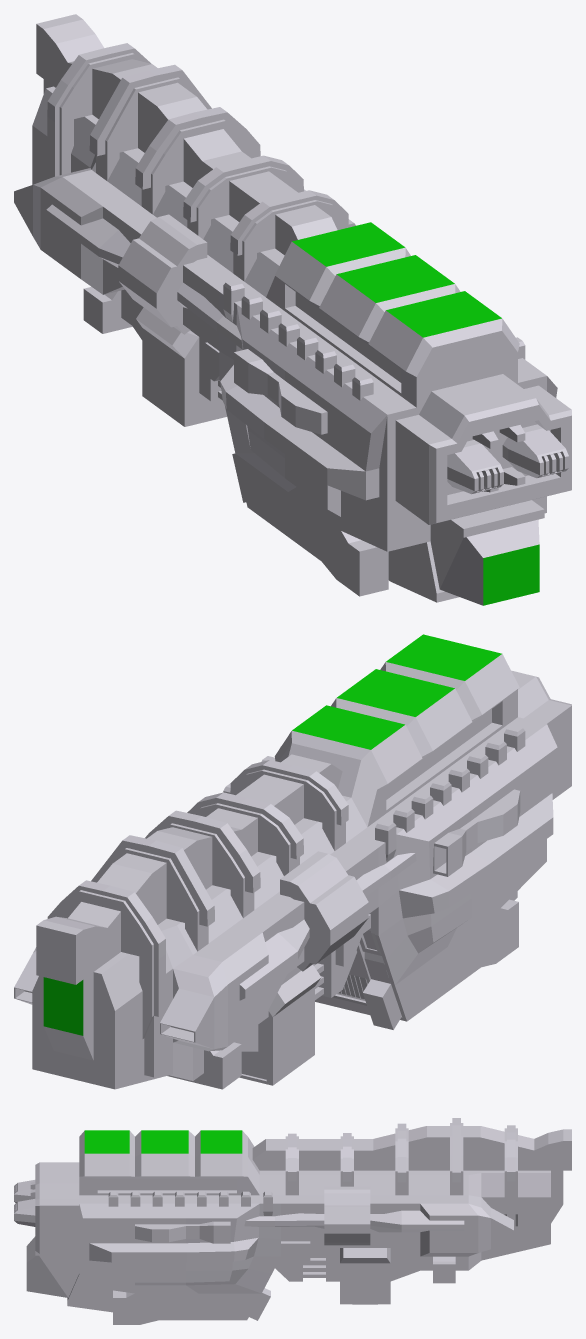
File: hull.rib.fbx
3 views of the same model, one above another, from view 1: azimuth 30°, elevation 25°; view 2: azimuth 150°, elevation 25°; view 3: azimuth 270°, elevation 25° (orthographic). The views are drawn at different scales.
Parts seen in each view (by area): view 1: hull.rib; view 2: hull.rib; view 3: hull.rib.
Boxes of the visible parts, <box> form: hull.rib: <box>14,14,571,605</box>; hull.rib: <box>14,634,571,1089</box>; hull.rib: <box>14,1118,571,1324</box>.
Size of the model in its own units: 2.97 by 3.7 by 10.58.
